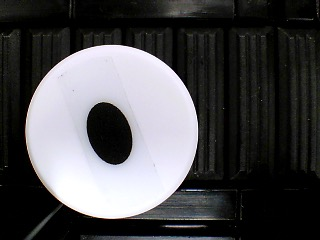BOHOEL: (25, 44, 199, 219)
